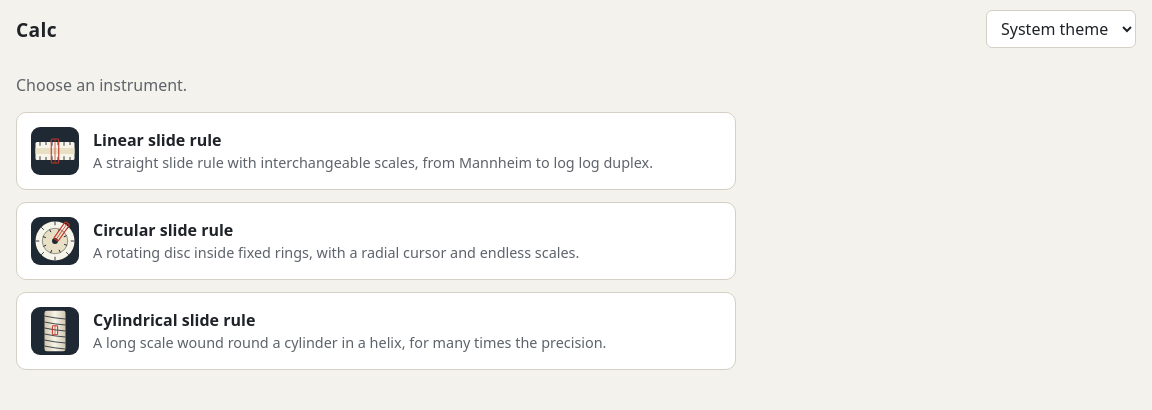
the home page links to the slide rule, which opens on the default rule
Click the link "Linear slide rule" at coordinates (376, 151), box [16,112,736,190]
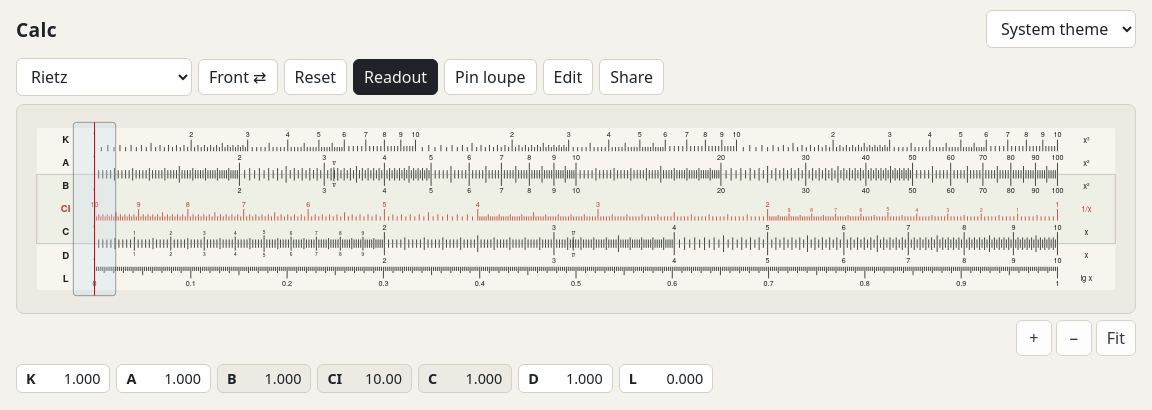
Expected: the icon named "Rietz slide rule" is shown, [17,105,1135,313]
